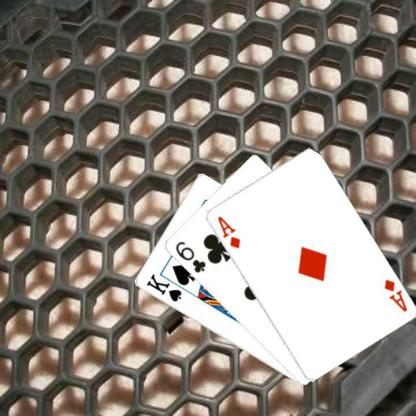6C: (172, 238, 207, 274)
AD: (214, 213, 242, 250), (381, 277, 408, 313)
KS: (143, 272, 183, 304)
